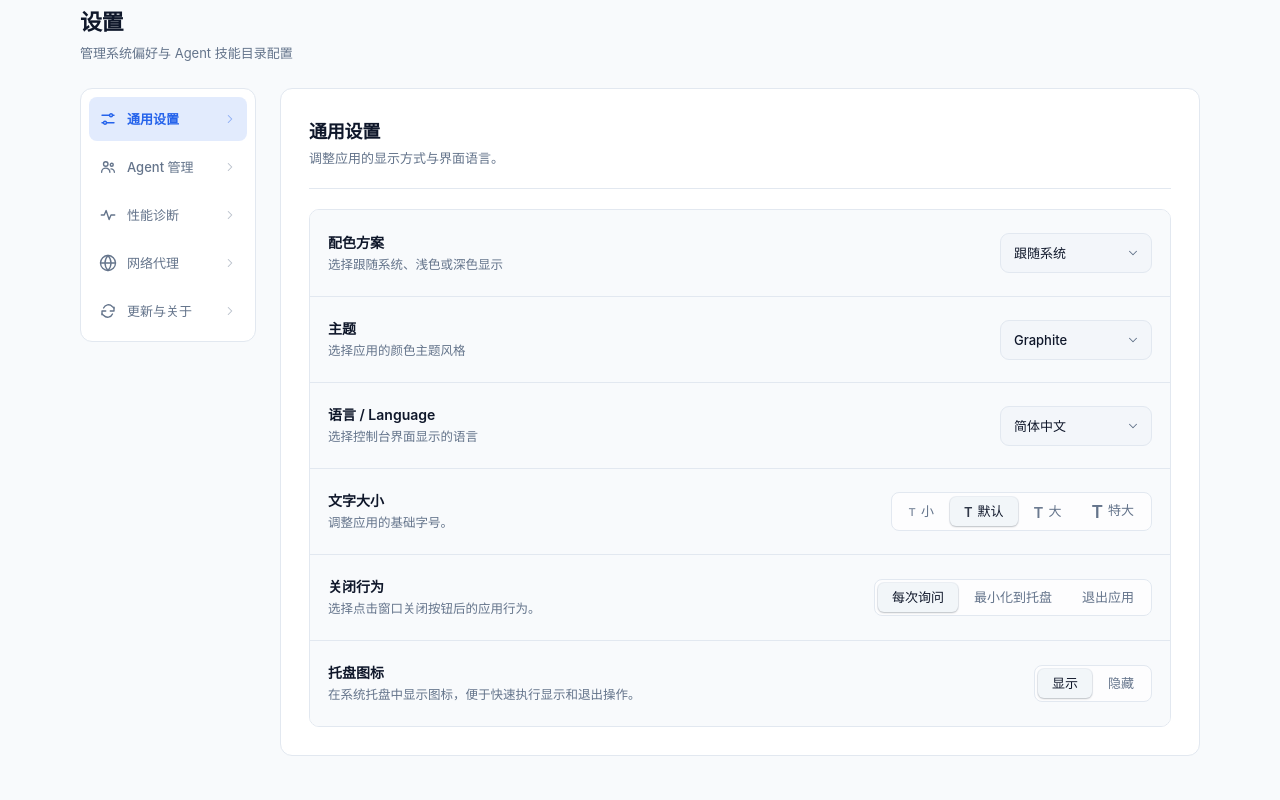
Settings route & i18n / Theme Switcher › keeps an Agent path editor collapsed until requested
What coordinates should you click on to do the following:
click the button "Agent 管理"
I would click on:
 (168, 166)
Its box is [89,144,247,188].
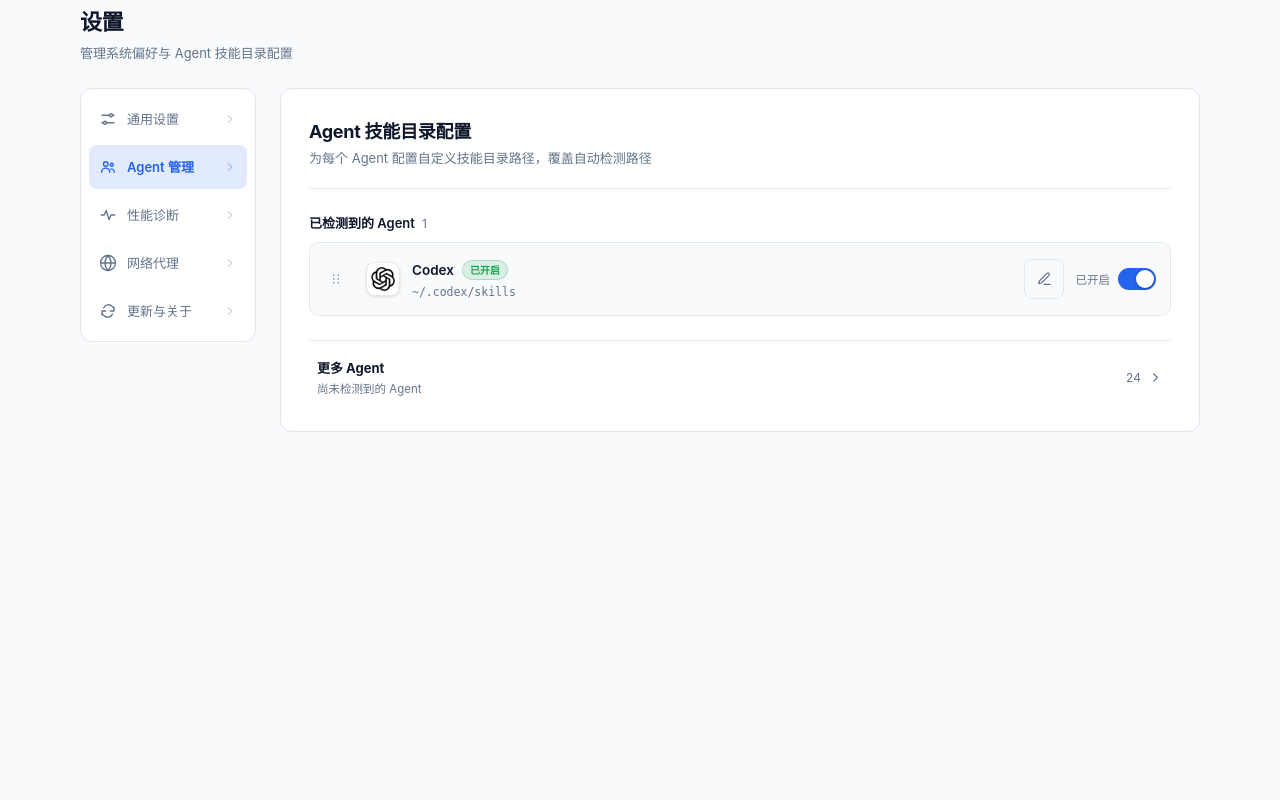
Expected: the field labelled "Codex Skills 目录" is not shown
What coordinates should you click on to do the following:
click the button named "修改 Codex 目录"
I would click on:
 (1044, 279)
Its box is [1024,259,1064,299].
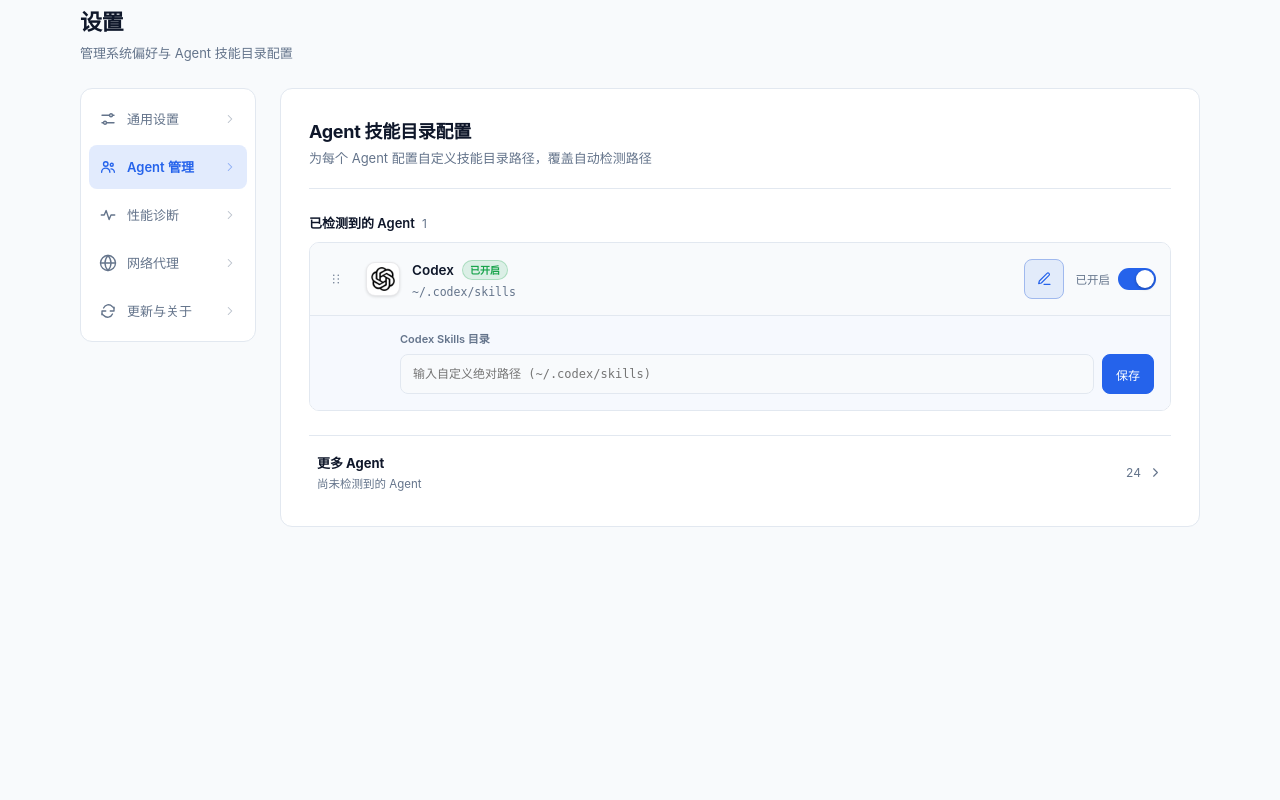
Expected: the field labelled "Codex Skills 目录" is shown, [400,354,1094,394]
